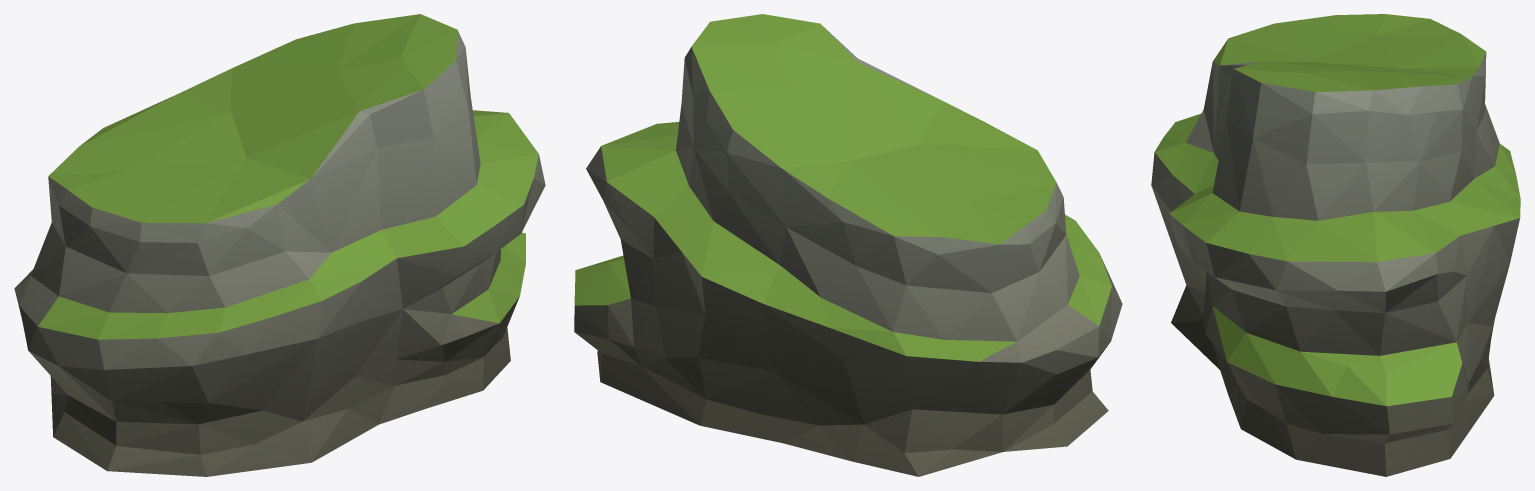
Rendered from ZLP_Rock_D_5.FBX.
3 renders of one model, left to right at view 1: azimuth 30°, elevation 25°; view 2: azimuth 150°, elevation 25°; view 3: azimuth 270°, elevation 25°, orthographic. The views are drawn at different scales.
Parts seen in each view (by area): view 1: ZLP_Rock_D_5; view 2: ZLP_Rock_D_5; view 3: ZLP_Rock_D_5.
Part boxes in pixels (box(x1,y1,x2,y2)): ZLP_Rock_D_5: box(14, 14, 545, 476); ZLP_Rock_D_5: box(574, 14, 1122, 476); ZLP_Rock_D_5: box(1151, 14, 1520, 476).
Size of the model in its own units: 240 by 149 by 144.
